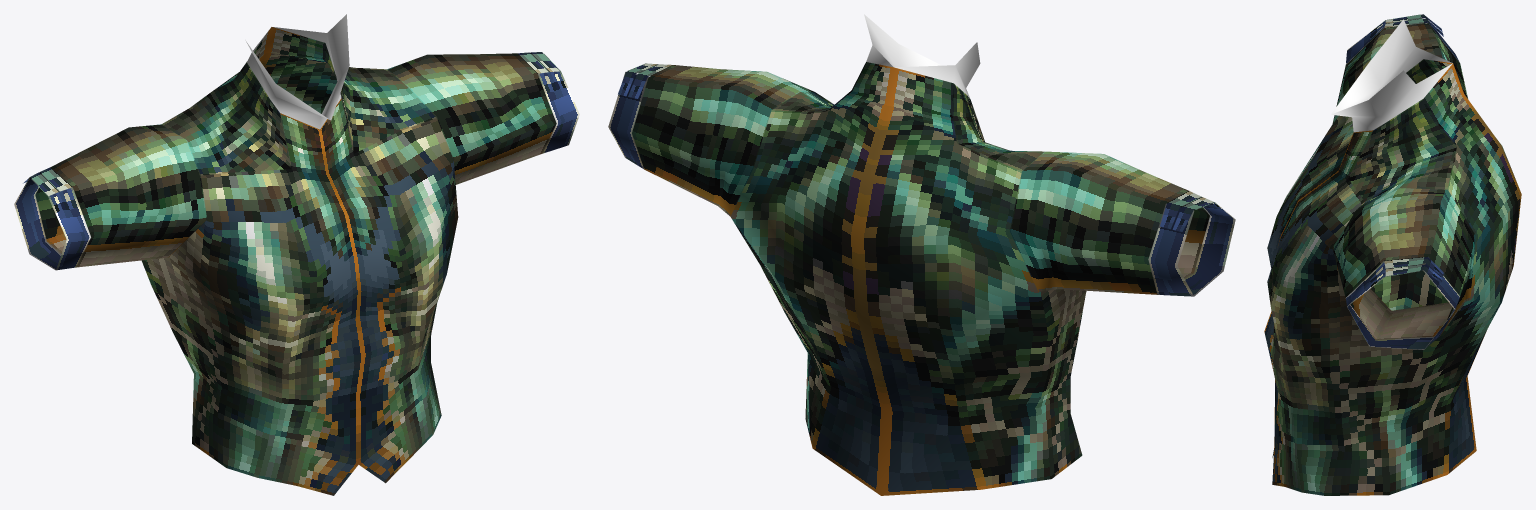
Rendered from m_body087.glb.
3 views of the same model, side by side, from view 1: azimuth 30°, elevation 25°; view 2: azimuth 150°, elevation 25°; view 3: azimuth 270°, elevation 25° (orthographic). The views are drawn at different scales.
Bounding box in the file's own units: 72 × 55.83 × 30.5.
Materials: 2 (1 with a texture image).
